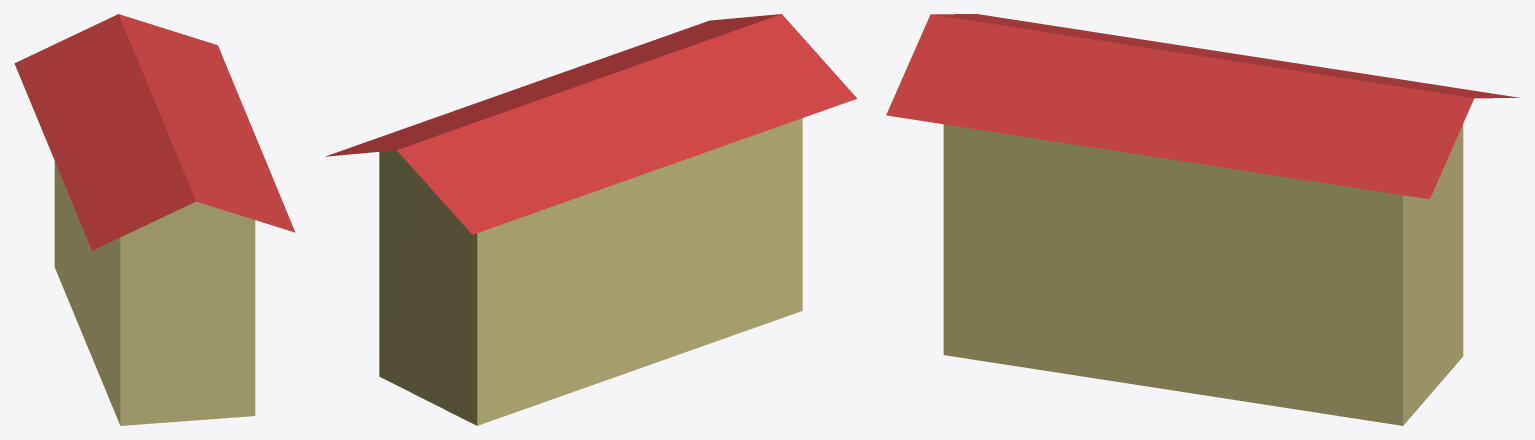
The picture shows the model from 3 angles, left to right: view 1: azimuth 30°, elevation 25°; view 2: azimuth 150°, elevation 25°; view 3: azimuth 270°, elevation 25°; orthographic projection. The views are drawn at different scales.
Size of the model in its own units: 9.99 by 14.15 by 7.39.
